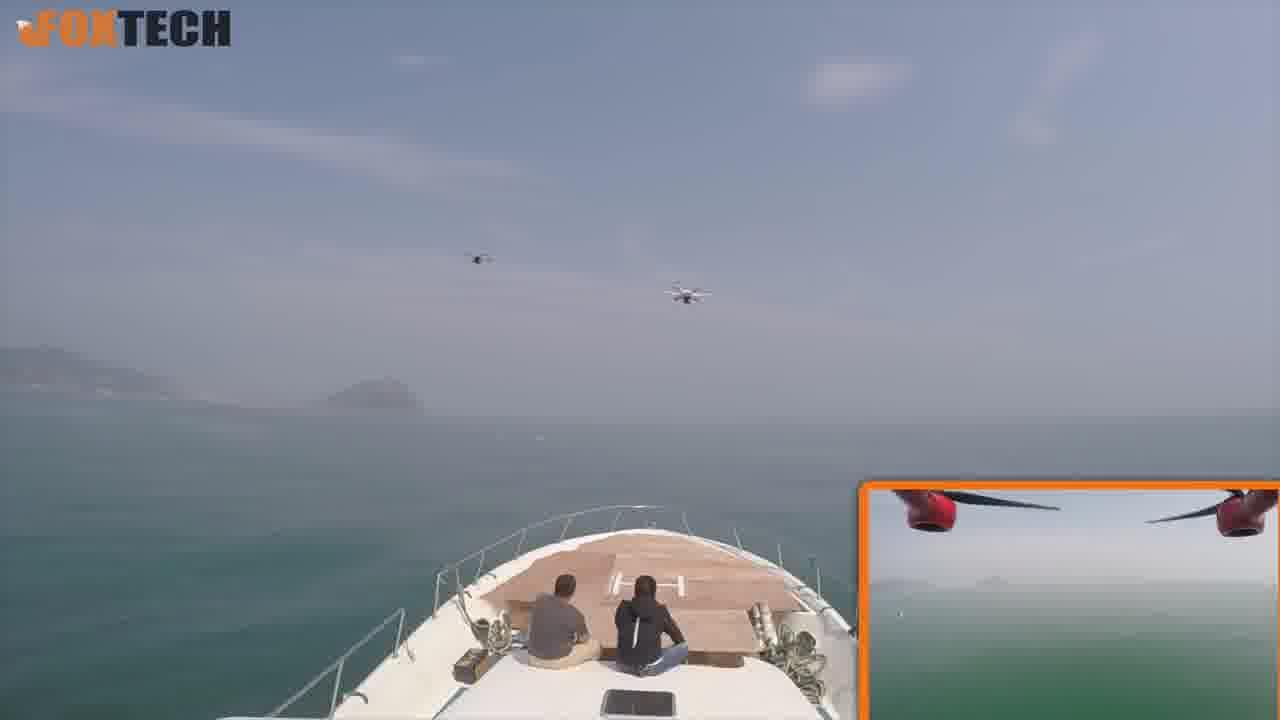drone: (653, 264, 717, 321)
